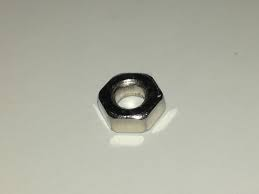No thread: (90, 74, 166, 132)
